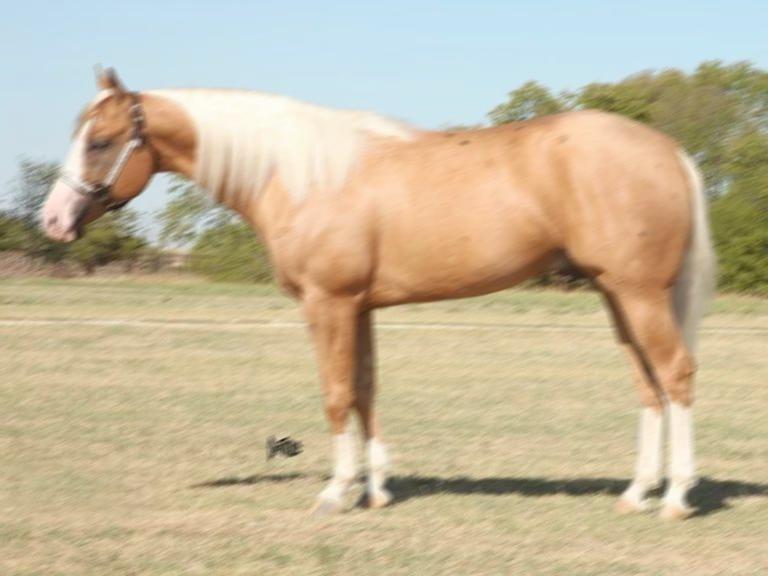horse: (39, 62, 722, 522)
